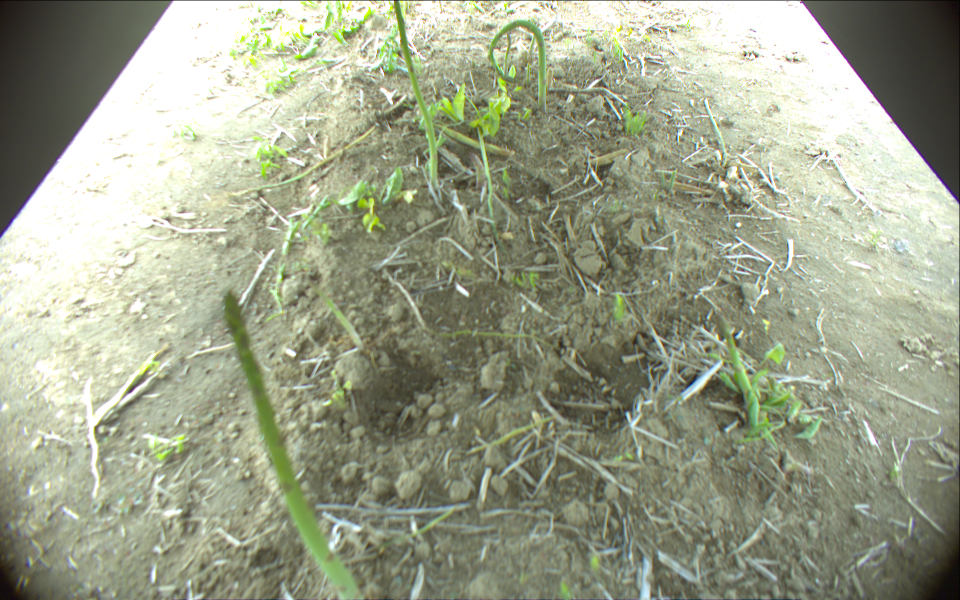aspa: (221, 290, 367, 598), (230, 127, 374, 197), (393, 1, 438, 182), (487, 19, 547, 111), (304, 272, 365, 350), (717, 316, 760, 426), (439, 124, 515, 159), (703, 97, 728, 166), (525, 31, 538, 82), (503, 29, 512, 76)
